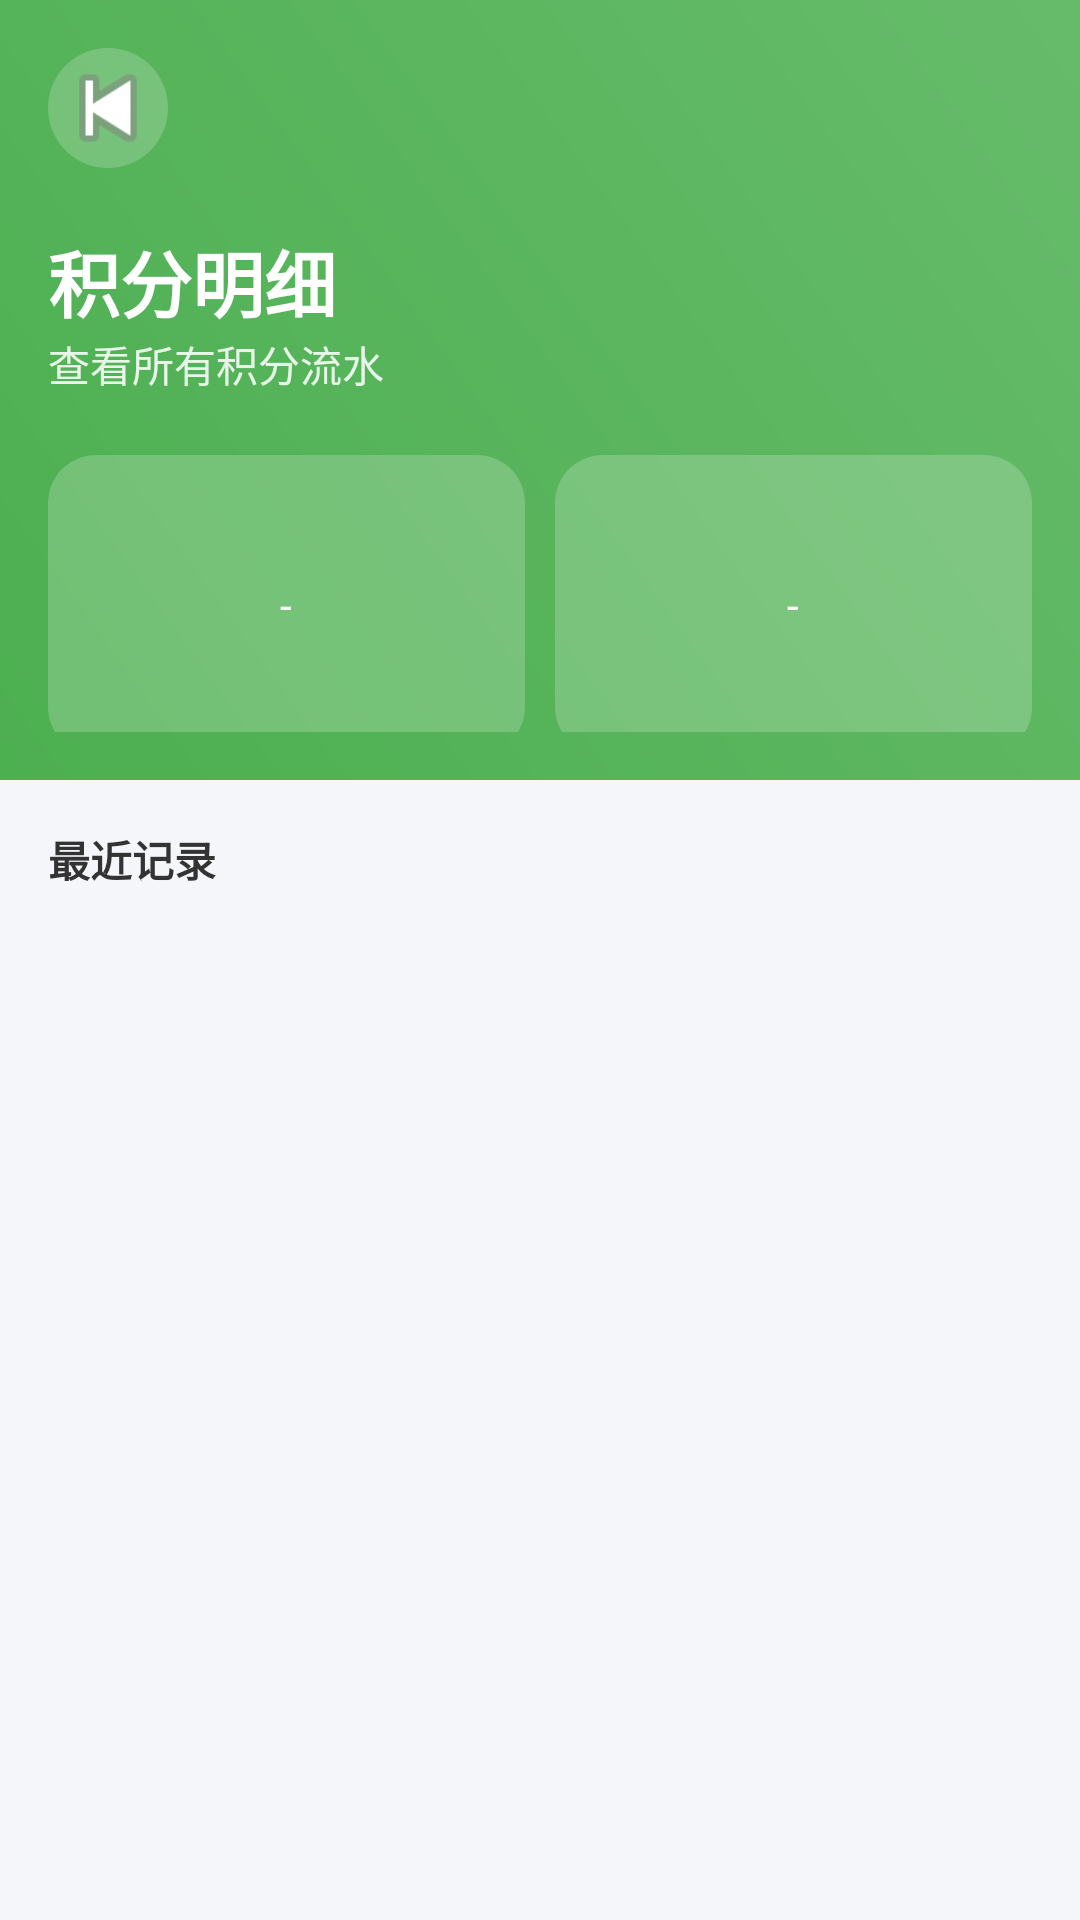

Point at icon controls on the screen. Image size 1080x1920, points as (x,y).
previous: (108,108)
